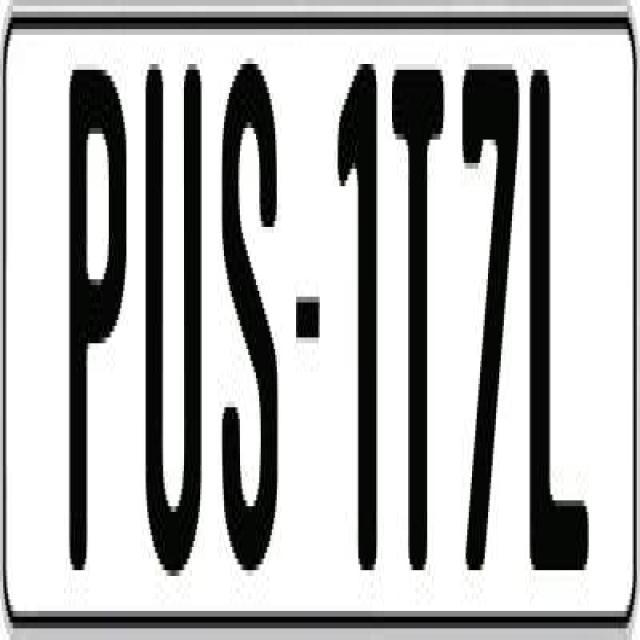1: (334, 64, 382, 605)
7: (462, 52, 520, 558)
L: (528, 70, 594, 576)
P: (66, 58, 132, 594)
S: (222, 64, 282, 588)
T: (388, 64, 444, 582)
U: (146, 64, 207, 594)
